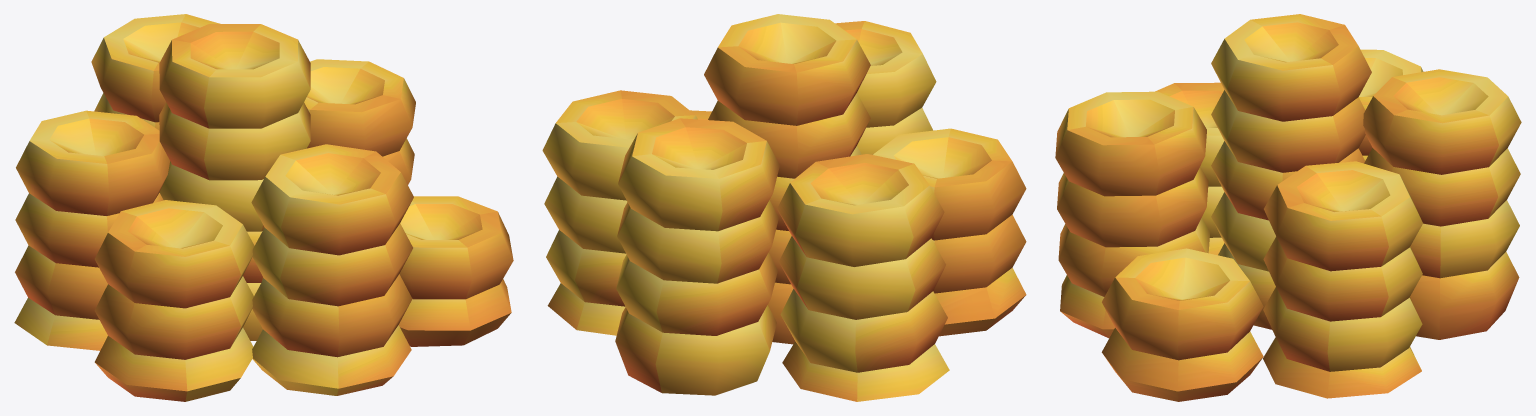
Rendered from coin_stack_medium.glb.
3 renders of one model, left to right at view 1: azimuth 30°, elevation 25°; view 2: azimuth 150°, elevation 25°; view 3: azimuth 270°, elevation 25°, orthographic. The views are drawn at different scales.
Parts seen in each view (by area): view 1: coin_stack_medium; view 2: coin_stack_medium; view 3: coin_stack_medium.
Boxes of the visible parts, <box> form: coin_stack_medium: <box>14,14,513,401</box>; coin_stack_medium: <box>542,14,1026,401</box>; coin_stack_medium: <box>1055,14,1521,401</box>.
Size of the model in its own units: 0.9933 by 0.6407 by 1.03.
Materials: 1 (1 with a texture image).
